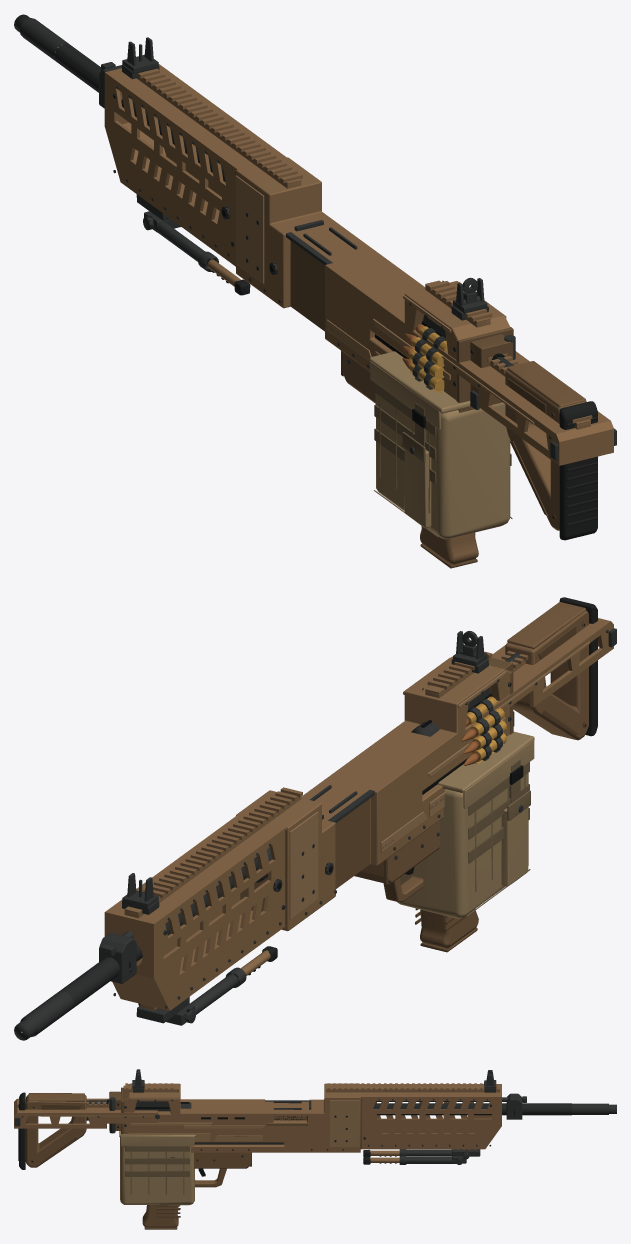
Rendered from weapon-44-CCw5yOJy.glb.
3 views of the same model, one above another, from view 1: azimuth 30°, elevation 25°; view 2: azimuth 150°, elevation 25°; view 3: azimuth 270°, elevation 25° (orthographic). The views are drawn at different scales.
Visible parts, largest first — view 1: salient_weapon_body, salient_weapon_magazine, salient_weapon_cover, salient_weapon_belt, salient_weapon_iron; view 2: salient_weapon_body, salient_weapon_magazine, salient_weapon_cover, salient_weapon_belt, salient_weapon_iron; view 3: salient_weapon_body, salient_weapon_magazine, salient_weapon_cover, salient_weapon_iron.
Part boxes in pixels (box(x1,y1,x2,y2)): salient_weapon_body: box(14, 14, 597, 568); salient_weapon_magazine: box(370, 351, 512, 539); salient_weapon_cover: box(427, 339, 616, 465); salient_weapon_belt: box(402, 324, 447, 392); salient_weapon_iron: box(122, 37, 488, 320); salient_weapon_body: box(14, 597, 597, 1040); salient_weapon_magazine: box(397, 731, 534, 918); salient_weapon_cover: box(482, 618, 616, 718); salient_weapon_belt: box(461, 696, 506, 765); salient_weapon_iron: box(122, 631, 488, 914); salient_weapon_body: box(18, 1083, 616, 1229); salient_weapon_magazine: box(119, 1131, 195, 1205); salient_weapon_cover: box(14, 1098, 159, 1128); salient_weapon_iron: box(132, 1069, 496, 1092).
Size of the model in its own units: 0.0941 by 0.3047 by 1.07.
